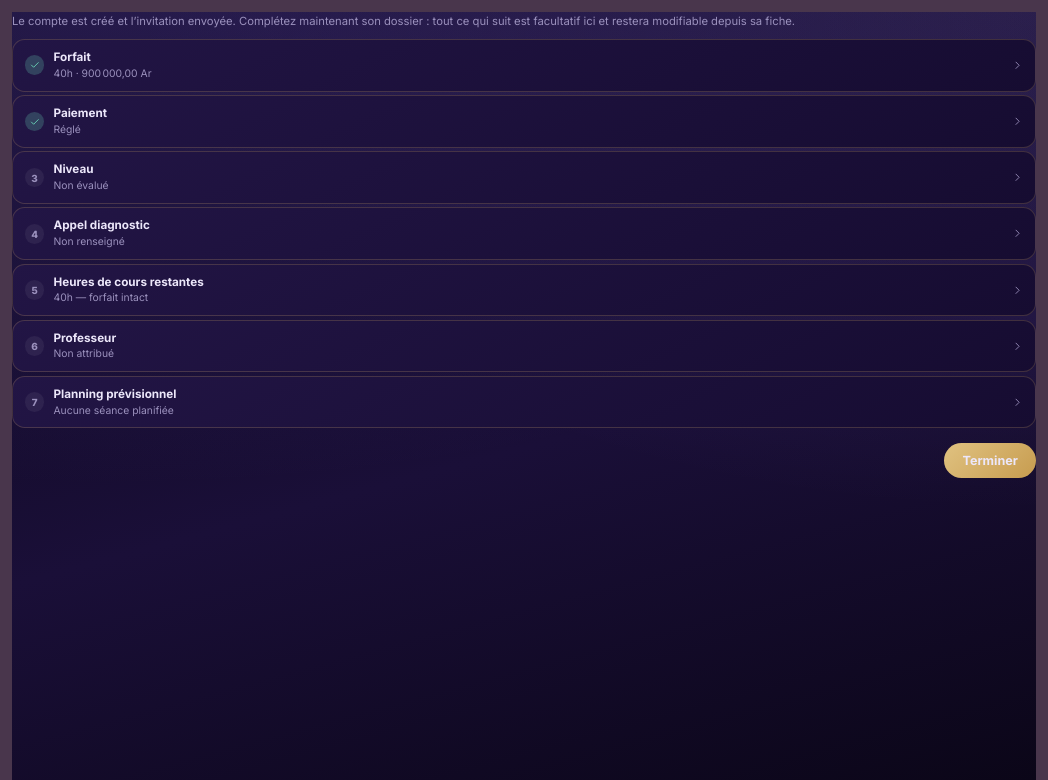
Scenario: CompleterDossierEtudiant › annonce un forfait soldé plutôt qu’un paiement à enregistrer
Expected: the text "Réglé" is shown, [54,123,81,135]
Click the button "Paiement Réglé" at coordinates (80, 113), box [13,96,1035,147]
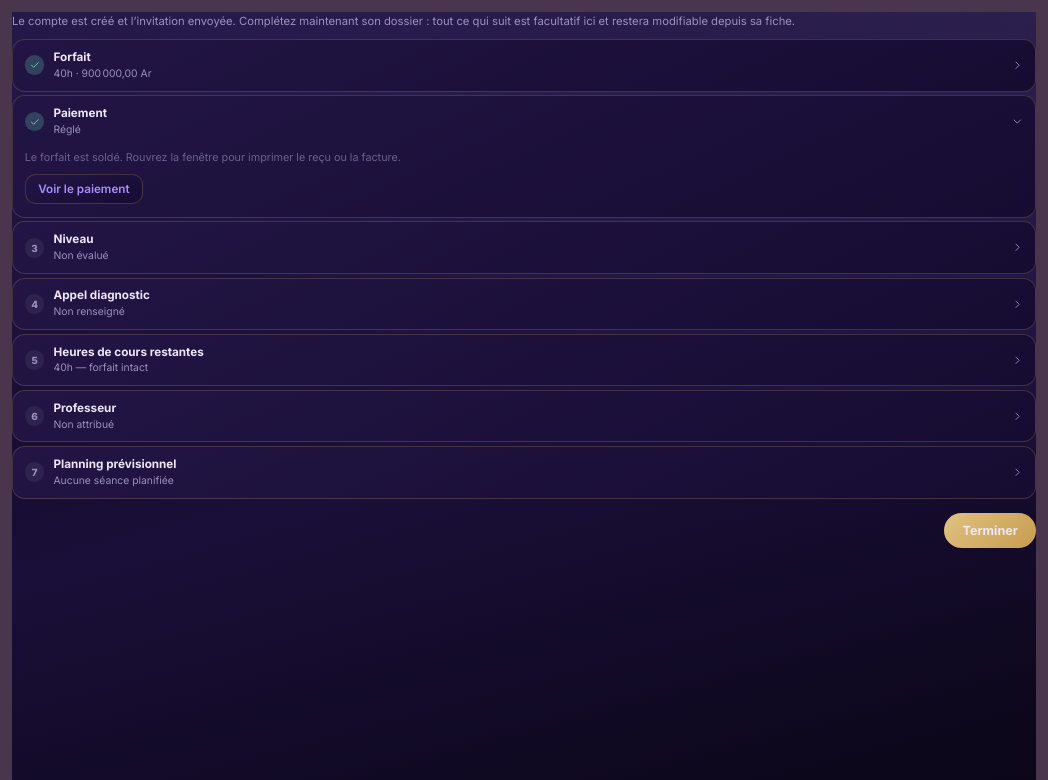
Expected: the button "Voir le paiement" is shown, [25,174,143,204]
